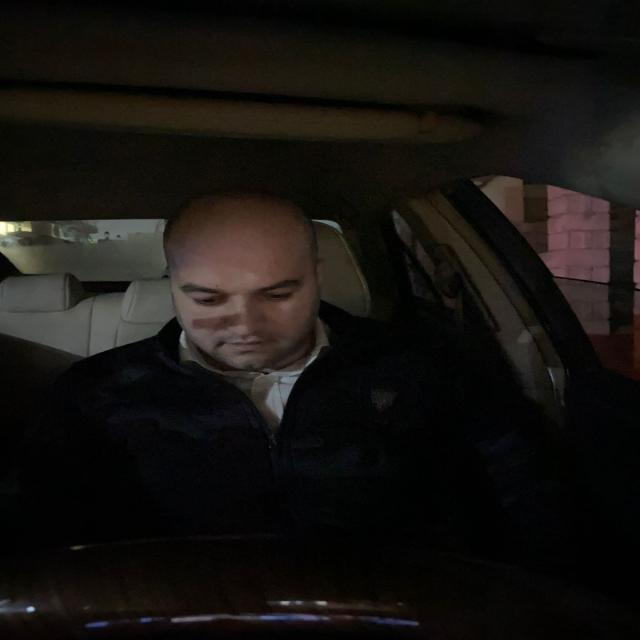person: (153, 188, 342, 377)
